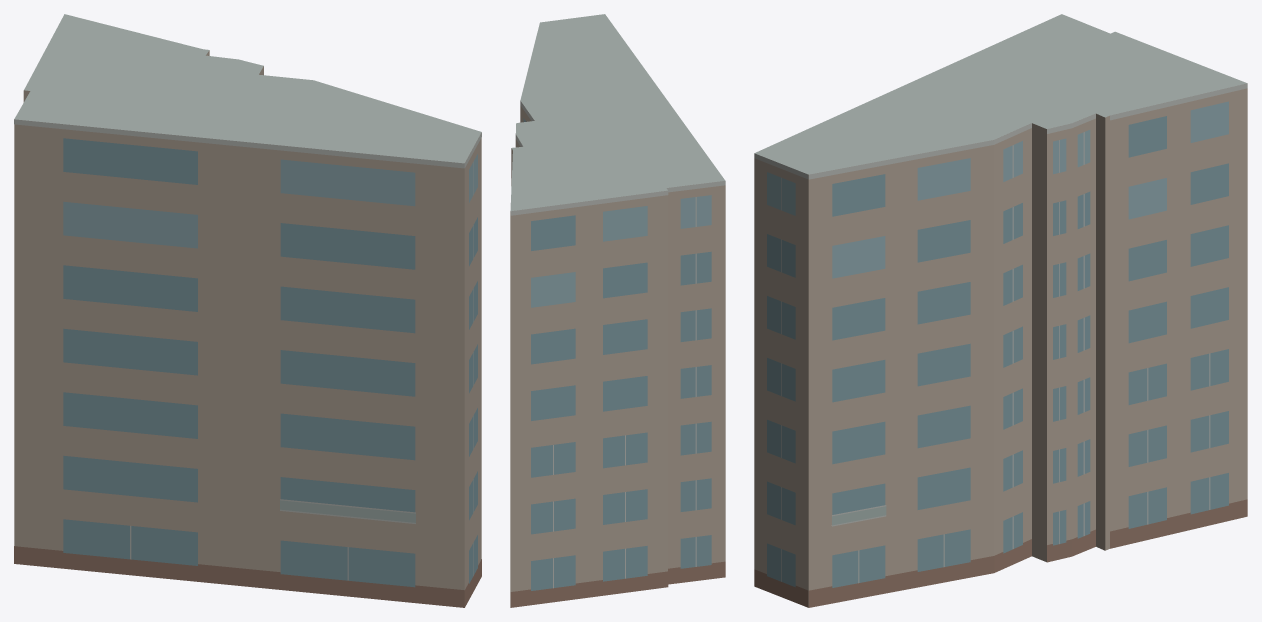
File: survey-upis-33043600.glb
3 renders of one model, left to right at view 1: azimuth 30°, elevation 25°; view 2: azimuth 150°, elevation 25°; view 3: azimuth 270°, elevation 25°, orthographic. The views are drawn at different scales.
Visible parts, largest first — view 1: survey-upis-33043600.tmp; view 2: survey-upis-33043600.tmp; view 3: survey-upis-33043600.tmp.
Part boxes in pixels (x1,y1,x2,y2): survey-upis-33043600.tmp: (14, 14, 481, 607); survey-upis-33043600.tmp: (510, 14, 725, 607); survey-upis-33043600.tmp: (754, 14, 1247, 607).
Bounding box in the file's own units: 16.99 × 21.35 × 22.04.
